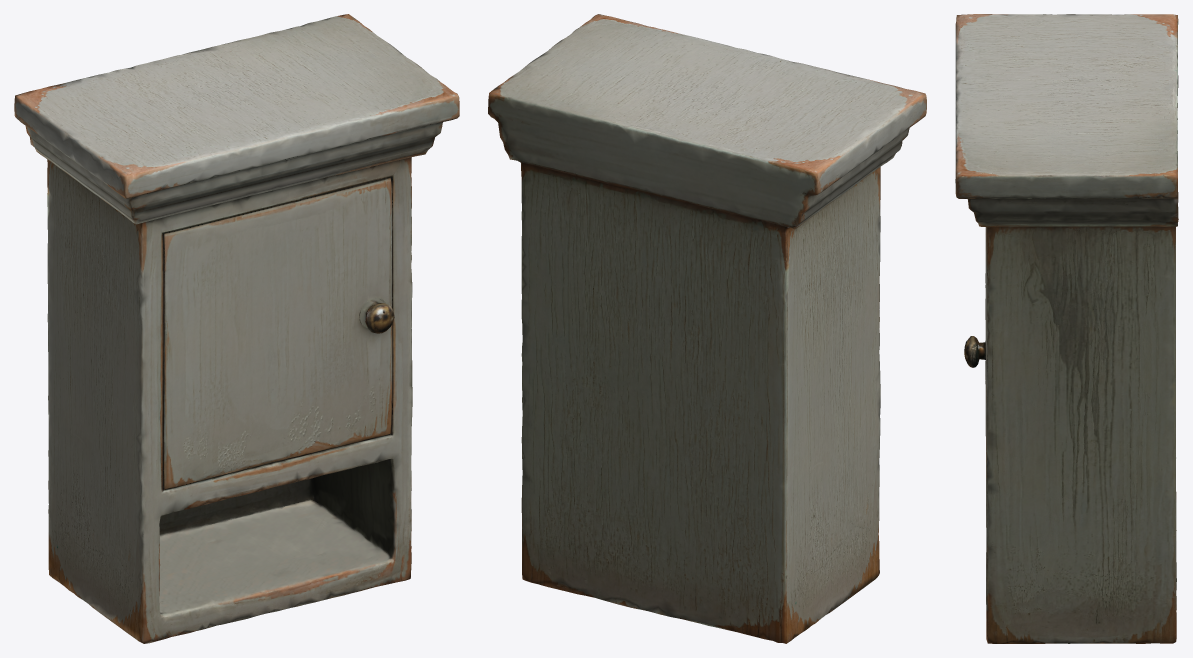
The model's file is Furn_BathroomCabinet.fbx.
The picture shows the model from 3 angles, left to right: view 1: azimuth 30°, elevation 25°; view 2: azimuth 150°, elevation 25°; view 3: azimuth 270°, elevation 25°; orthographic projection.
Visible parts, largest first — view 1: texture_mapping; view 2: texture_mapping; view 3: texture_mapping.
Boxes of the visible parts, x1,y1,x2,y2 form: texture_mapping: (14,14,459,643); texture_mapping: (488,14,926,643); texture_mapping: (955,14,1178,643).
Bounding box in the file's own units: 0.7177 × 0.4155 × 0.9977.
Materials: 1 (1 with a texture image).
